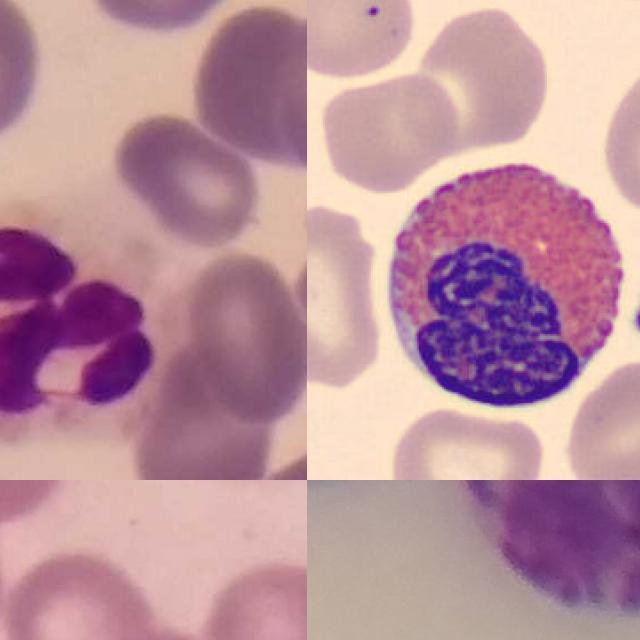Basophil: (453, 480, 640, 619)
Eosinophil: (370, 140, 640, 422)
Neutrophil: (0, 195, 178, 446)
Platelets: (627, 293, 640, 342)
RBC: (314, 70, 462, 195), (307, 198, 387, 390), (383, 404, 548, 480), (561, 358, 640, 480), (307, 0, 419, 78), (596, 45, 640, 218)
